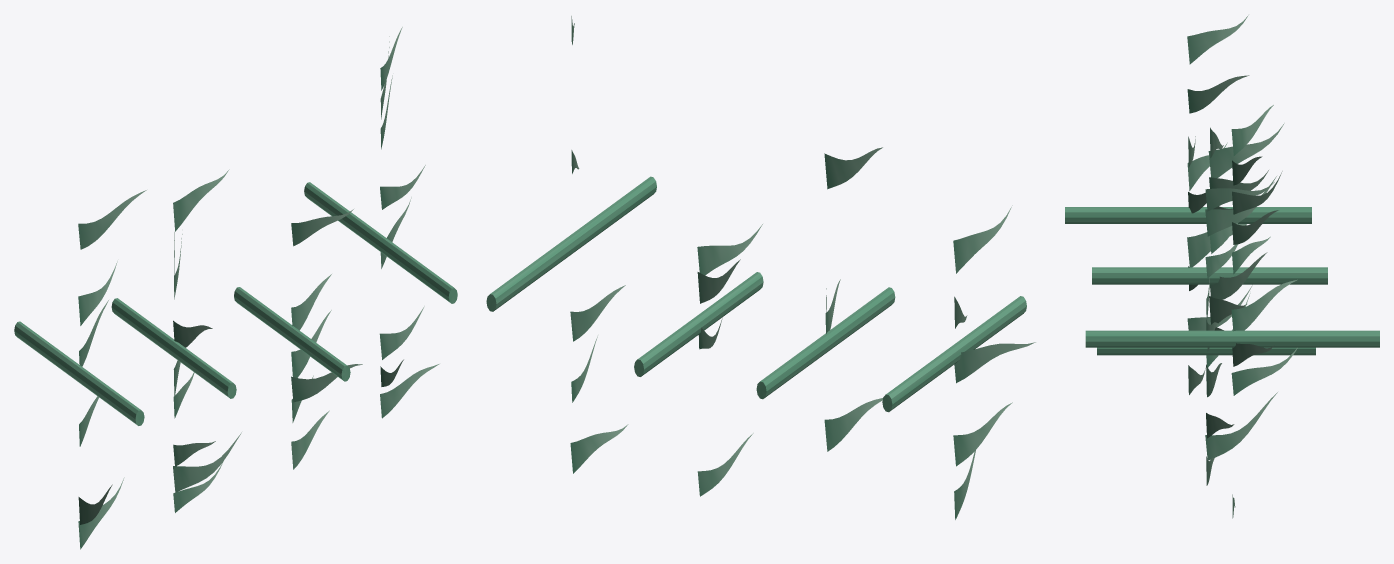
File: mesh-plant-049-zigzag-stem_LOD0.glb
The picture shows the model from 3 angles, left to right: view 1: azimuth 30°, elevation 25°; view 2: azimuth 150°, elevation 25°; view 3: azimuth 270°, elevation 25°; orthographic projection. The views are drawn at different scales.
Visible parts, largest first — view 1: geometry_0; view 2: geometry_0; view 3: geometry_0.
Part boxes in pixels (bbox=[...]): geometry_0: bbox=[14, 27, 457, 549]; geometry_0: bbox=[486, 16, 1035, 519]; geometry_0: bbox=[1065, 15, 1379, 518].
Size of the model in its own units: 1.94 by 1.82 by 1.18.
